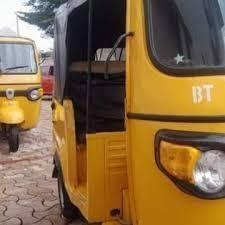keke: (0, 29, 45, 153)
